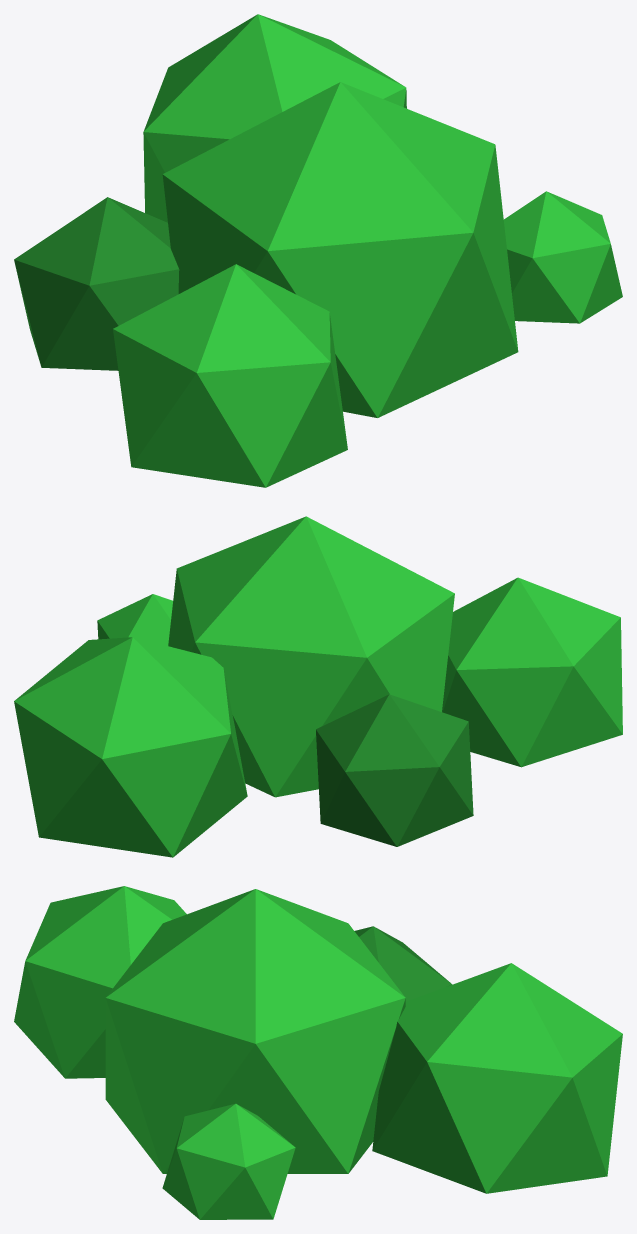
The picture shows the model from 3 angles, top to bottom: view 1: azimuth 30°, elevation 25°; view 2: azimuth 150°, elevation 25°; view 3: azimuth 270°, elevation 25°; orthographic projection. The views are drawn at different scales.
Visible parts, largest first — view 1: Icosphere, Icosphere.003, Icosphere.002, Icosphere.001, Icosphere.004; view 2: Icosphere, Icosphere.002, Icosphere.003, Icosphere.001, Icosphere.004; view 3: Icosphere, Icosphere.002, Icosphere.003, Icosphere.004, Icosphere.001.
Boxes of the visible parts, bbox=[...] form: Icosphere: bbox=[162, 82, 518, 417]; Icosphere.003: bbox=[113, 264, 347, 487]; Icosphere.002: bbox=[143, 14, 406, 222]; Icosphere.001: bbox=[14, 197, 179, 370]; Icosphere.004: bbox=[503, 191, 622, 323]; Icosphere: bbox=[168, 516, 454, 797]; Icosphere.002: bbox=[14, 637, 247, 857]; Icosphere.003: bbox=[442, 577, 622, 767]; Icosphere.001: bbox=[316, 694, 473, 846]; Icosphere.004: bbox=[97, 594, 172, 645]; Icosphere: bbox=[105, 889, 405, 1173]; Icosphere.002: bbox=[372, 963, 622, 1193]; Icosphere.003: bbox=[14, 886, 186, 1078]; Icosphere.004: bbox=[162, 1103, 295, 1219]; Icosphere.001: bbox=[354, 926, 452, 1001].
Bounding box in the file's own units: 2.57 × 1.22 × 2.8.
